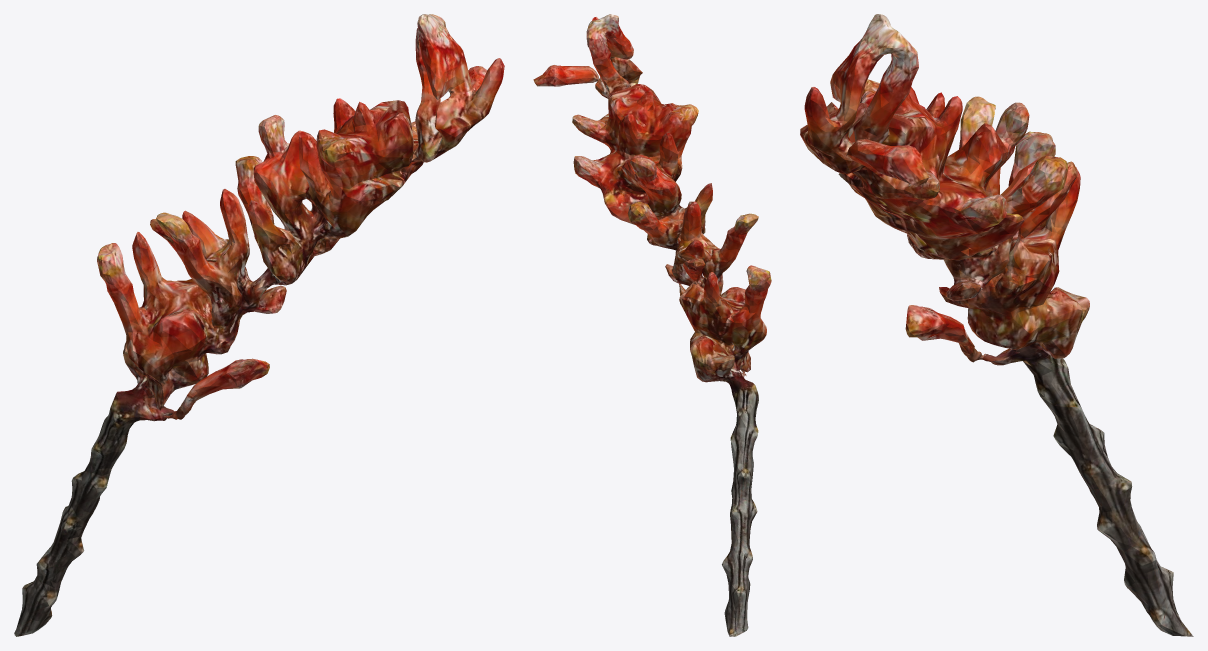
The model's file is ocotillo.obj.
3 renders of one model, left to right at view 1: azimuth 30°, elevation 25°; view 2: azimuth 150°, elevation 25°; view 3: azimuth 270°, elevation 25°, orthographic. The views are drawn at different scales.
Parts seen in each view (by area): view 1: mmGroup0; view 2: mmGroup0; view 3: mmGroup0.
Part boxes in pixels (x1,y1,x2,y2): mmGroup0: (14,14,504,636); mmGroup0: (533,14,771,636); mmGroup0: (800,14,1193,636).
Bounding box in the file's own units: 1.57 × 2.55 × 1.15.
1 material, 1 textured.
